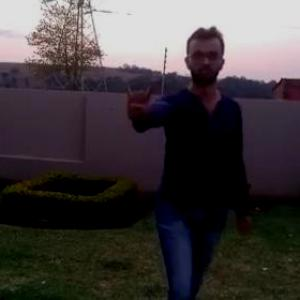takeoff-hand: (114, 71, 151, 118)
